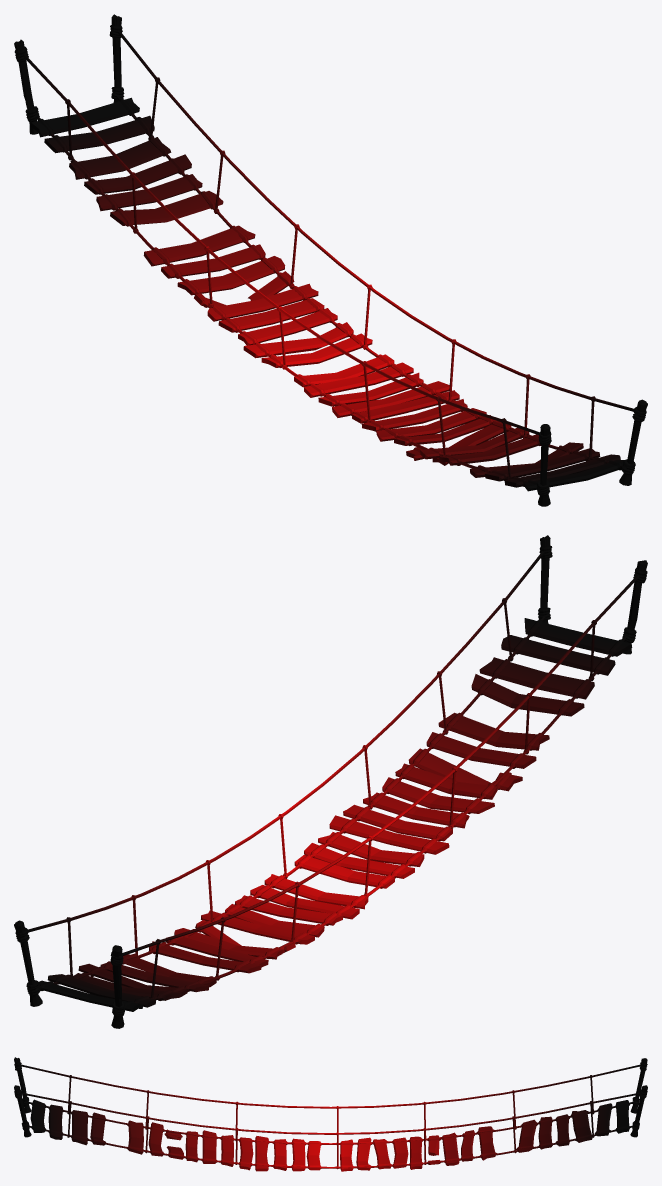
Rendered from SM_Bld_RopeBridge_01.gltf.
3 views of the same model, one above another, from view 1: azimuth 30°, elevation 25°; view 2: azimuth 150°, elevation 25°; view 3: azimuth 270°, elevation 25° (orthographic). The views are drawn at different scales.
Parts seen in each view (by area): view 1: SM_Bld_RopeBridge_01; view 2: SM_Bld_RopeBridge_01; view 3: SM_Bld_RopeBridge_01.
Boxes of the visible parts, x1,y1,x2,y2 form: SM_Bld_RopeBridge_01: (14,14,647,506); SM_Bld_RopeBridge_01: (14,535,647,1028); SM_Bld_RopeBridge_01: (14,1057,647,1171).
Size of the model in its own units: 1.95 by 2.43 by 15.56.
